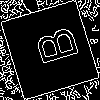B: (25, 24, 80, 69)
